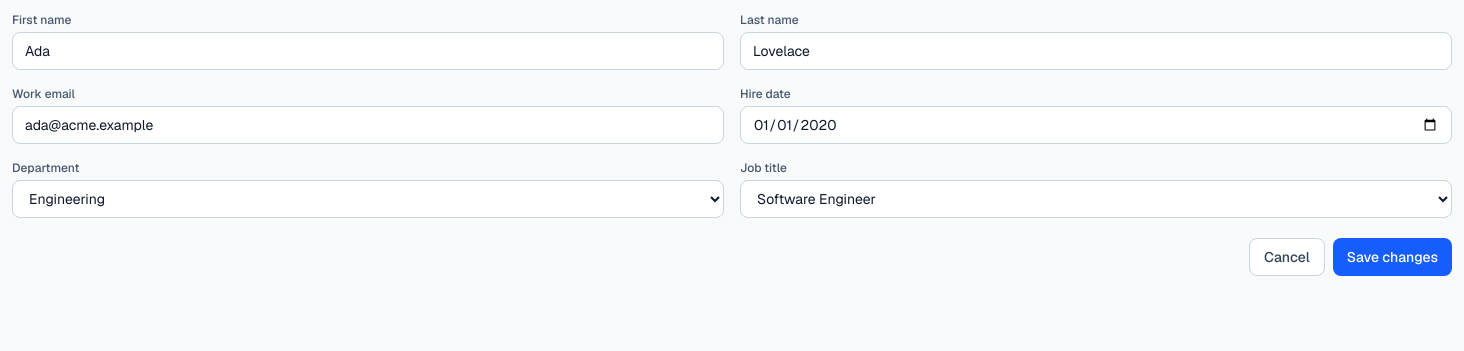
Test case: EmployeeForm › surfaces API errors (e.g. duplicate email)
The image size is (1464, 351).
Click the button "Save changes" at (1392,257), box [1333,238,1452,276]
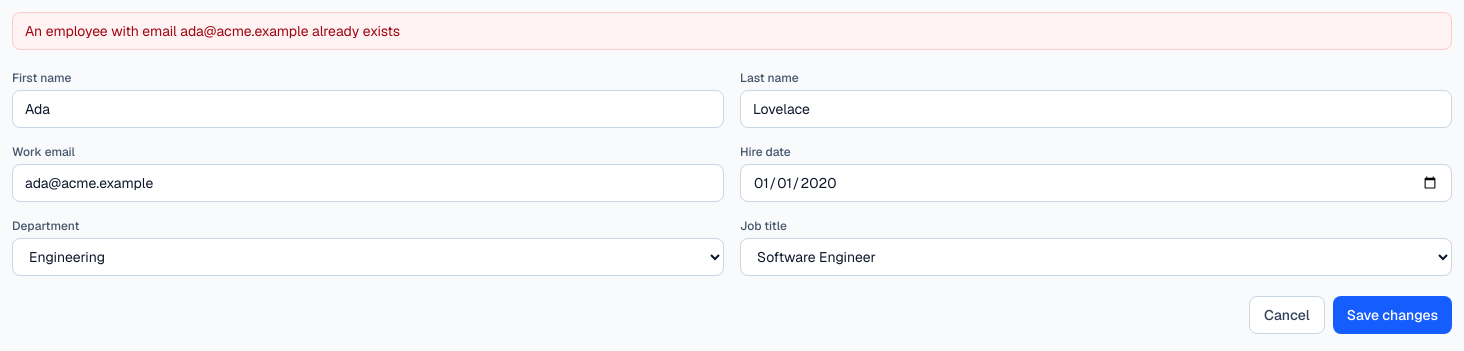
expect the message shows "already exists": met, box [25,22,400,40]
